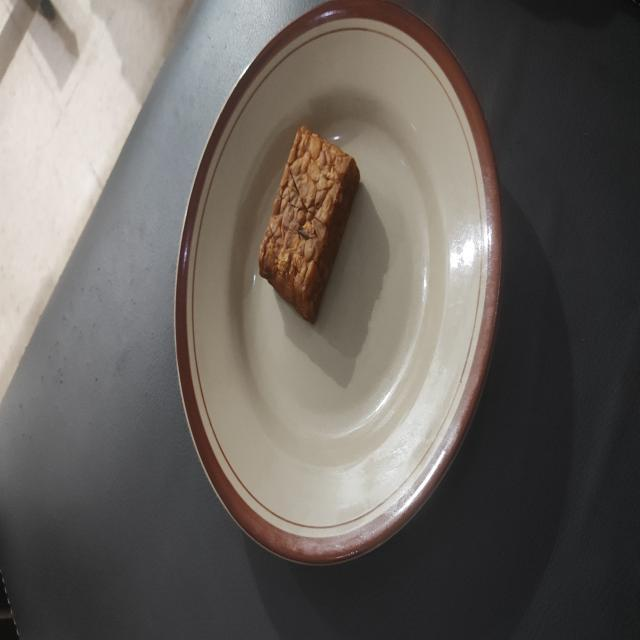tempe_goreng: (259, 126, 360, 323)
